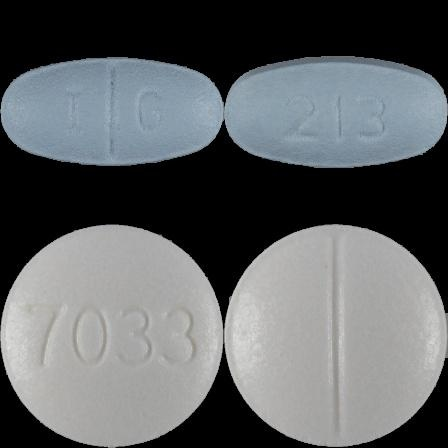0615-6559: (0, 0, 224, 224)
